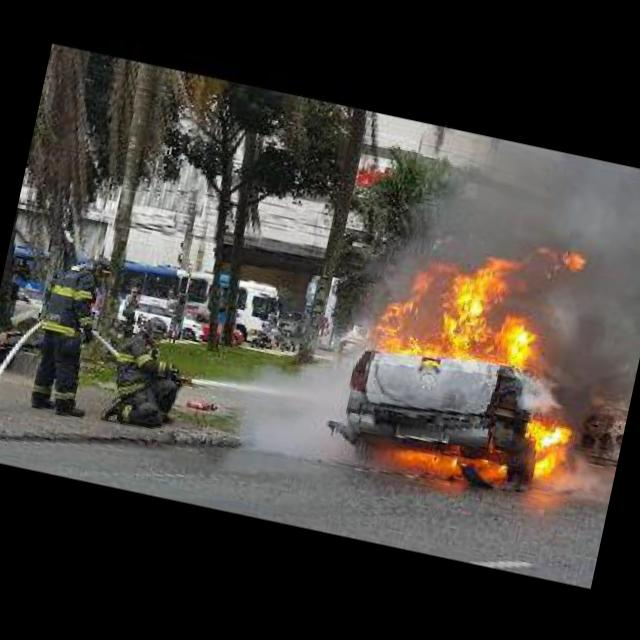fire: (365, 206, 590, 392), (387, 384, 572, 498)
smoke: (409, 126, 640, 283), (505, 298, 640, 441)
